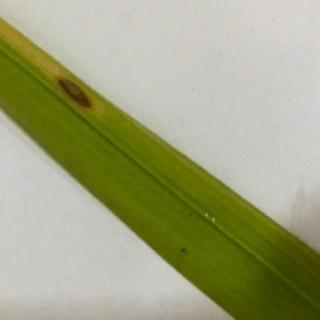Blast: (48, 64, 100, 120)
